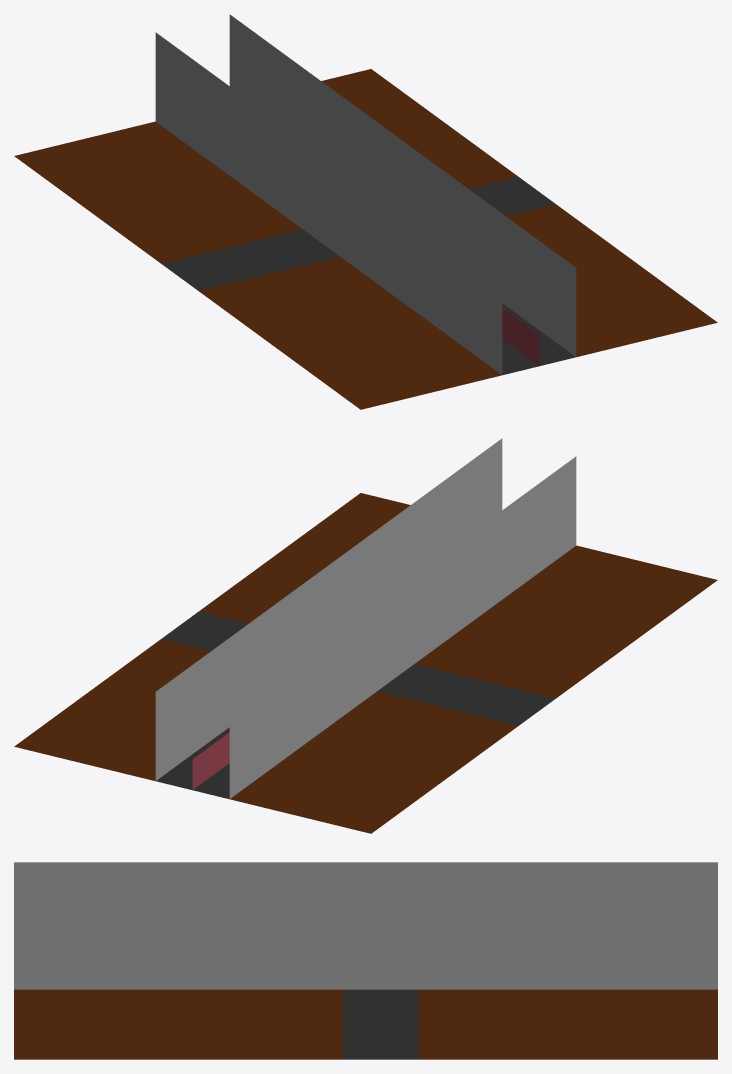
File: Track_B.fbx
3 views of the same model, one above another, from view 1: azimuth 30°, elevation 25°; view 2: azimuth 150°, elevation 25°; view 3: azimuth 270°, elevation 25° (orthographic).
Parts seen in each view (by area): view 1: Sand_B, InvisibleWall_B, Road_B, AI_B; view 2: Sand_B, InvisibleWall_B, Road_B, AI_B; view 3: InvisibleWall_B, Sand_B, Road_B.
Boxes of the visible parts, x1,y1,x2,y2 form: Sand_B: [14, 69, 717, 409]; InvisibleWall_B: [155, 14, 576, 374]; Road_B: [162, 177, 575, 375]; AI_B: [502, 308, 539, 365]; Sand_B: [14, 493, 717, 833]; InvisibleWall_B: [155, 438, 576, 798]; Road_B: [156, 611, 555, 799]; AI_B: [192, 732, 229, 789]; InvisibleWall_B: [14, 862, 717, 989]; Sand_B: [14, 989, 717, 1059]; Road_B: [343, 989, 418, 1059].
Size of the model in its own units: 84.51 by 20.19 by 142.
